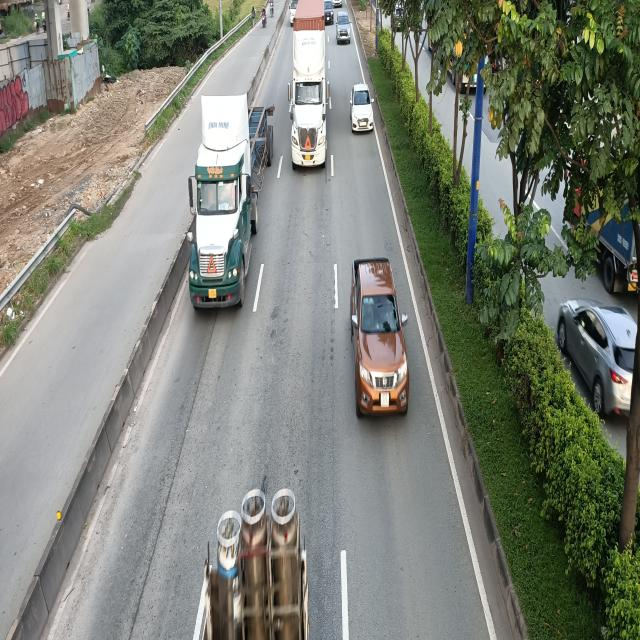car: (349, 257, 408, 421), (349, 84, 375, 132), (337, 11, 352, 45)
container: (190, 91, 274, 310), (288, 0, 330, 168)
